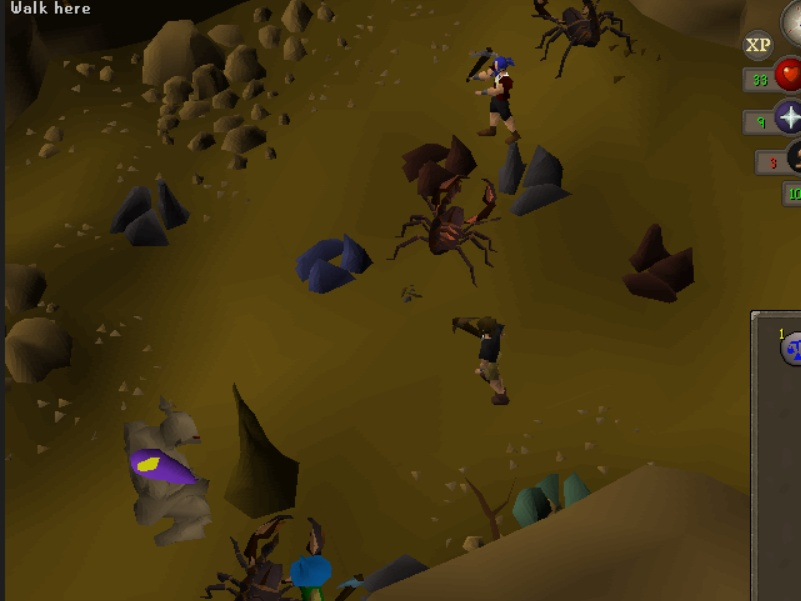adamant: (510, 458, 598, 536)
iron: (618, 206, 709, 317), (393, 132, 482, 198)
mithril: (286, 223, 382, 295)
